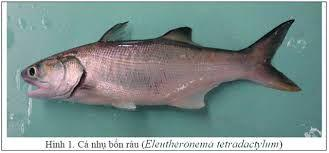Fourfinger Threadfish: (21, 20, 309, 110)
